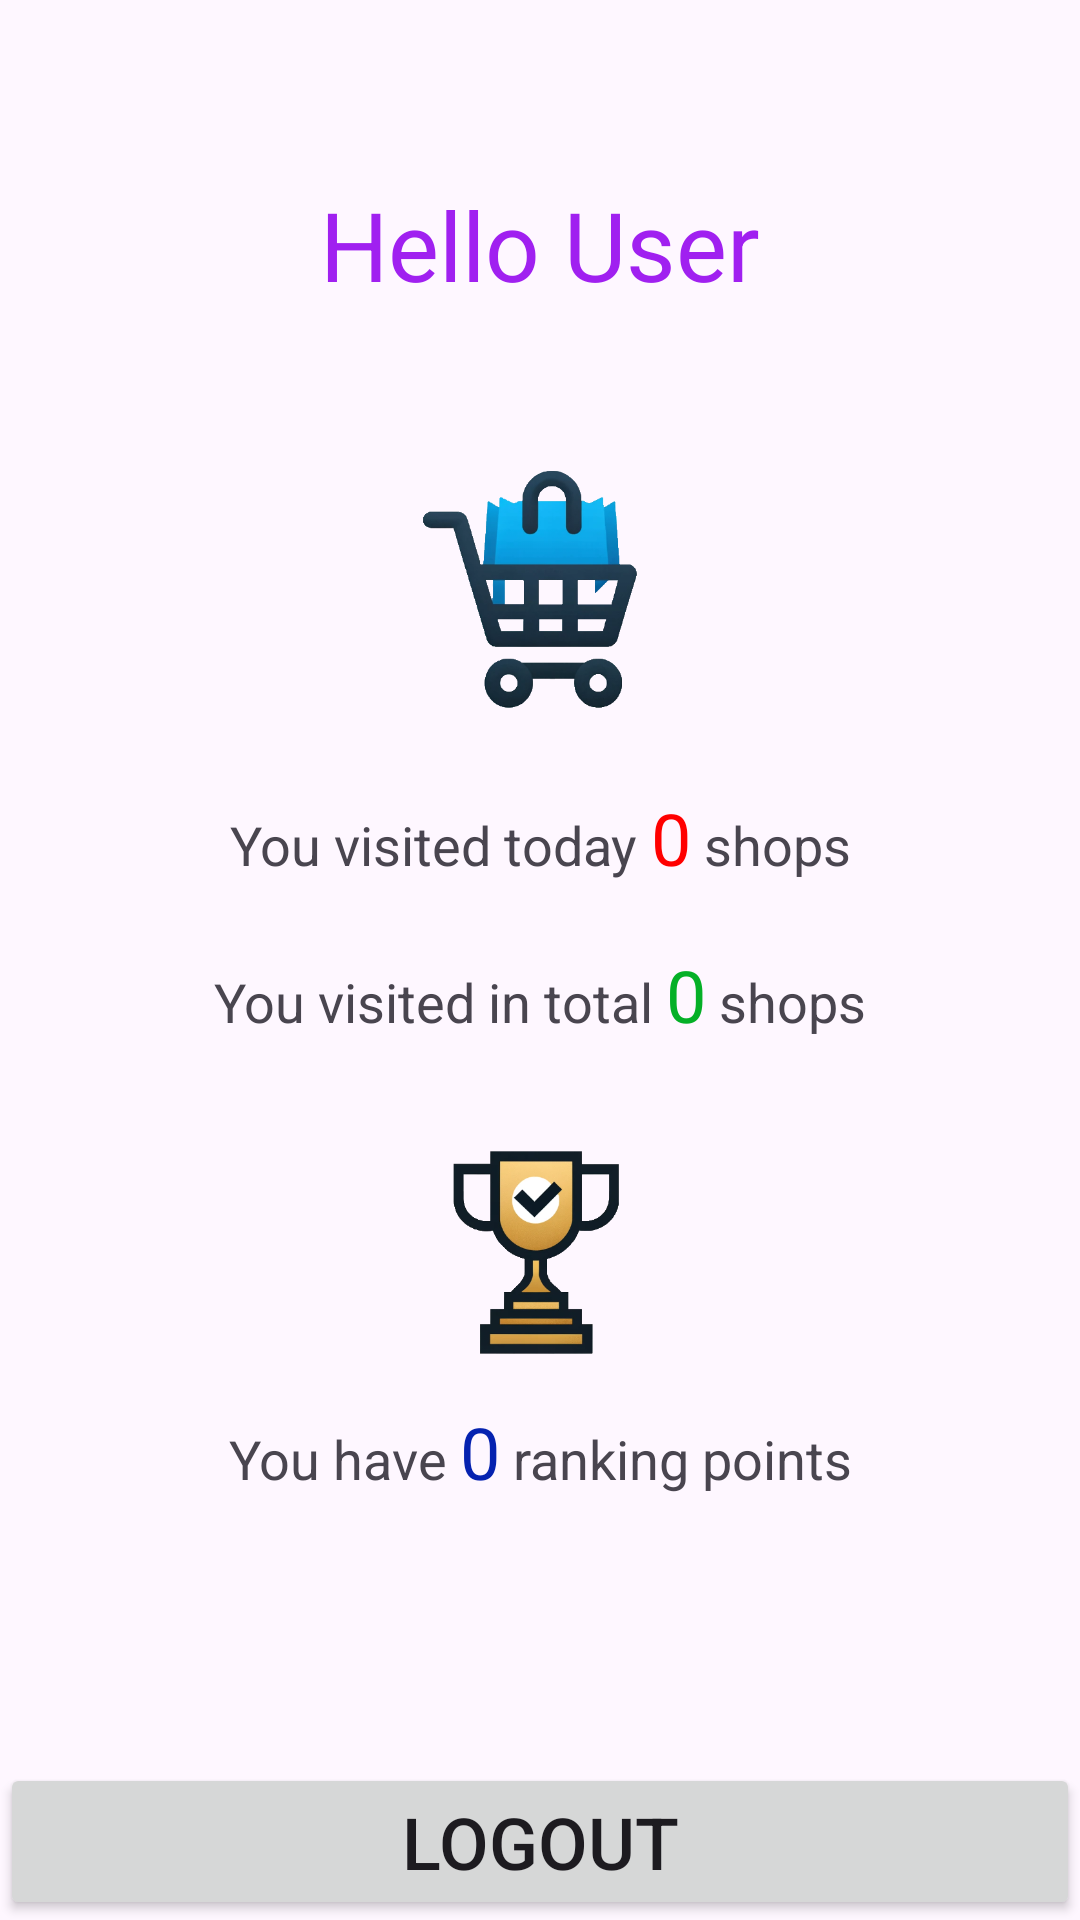

Icons on this 1080px x 1920px Android screen, each with the point to tap as (x=x, y=y):
trphy: (x=536, y=1252)
